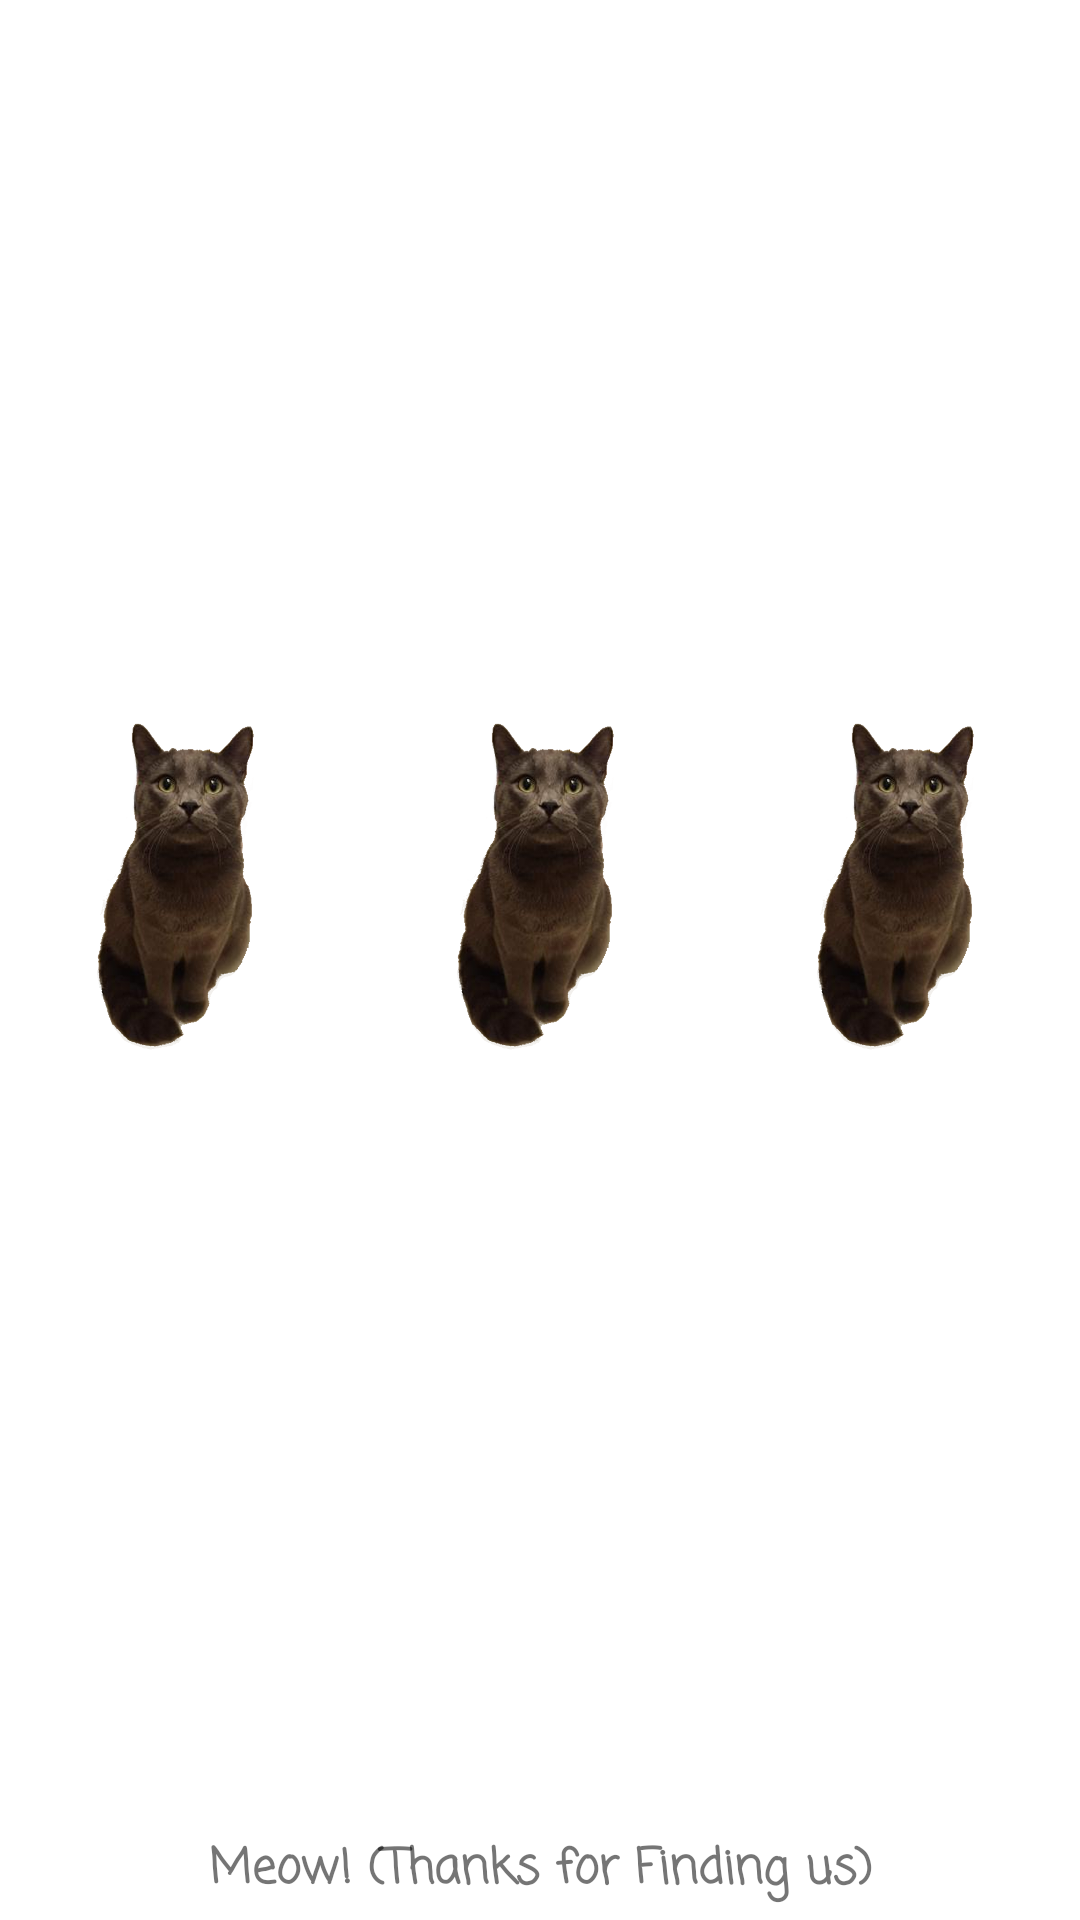

Where to tap for icons on this 1080 × 1920 app screen, as [x,y]:
picture of cat: [176,885], [536,885], [896,885]
